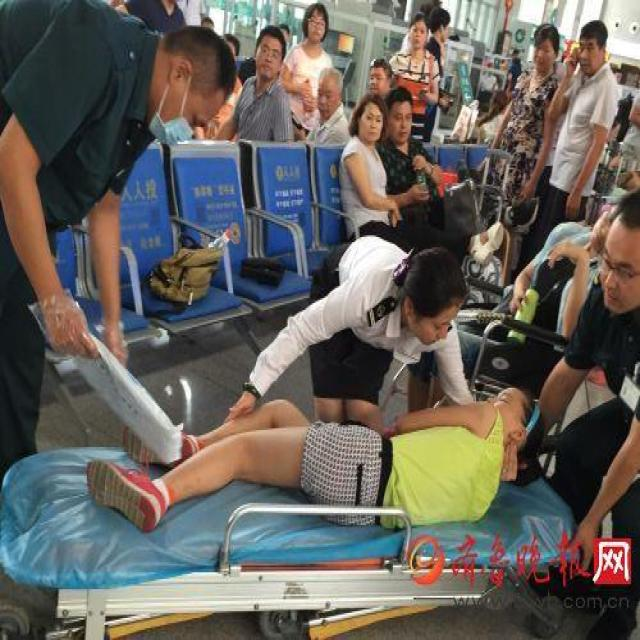10-: (0, 0, 638, 638)
down: (79, 379, 553, 534)
